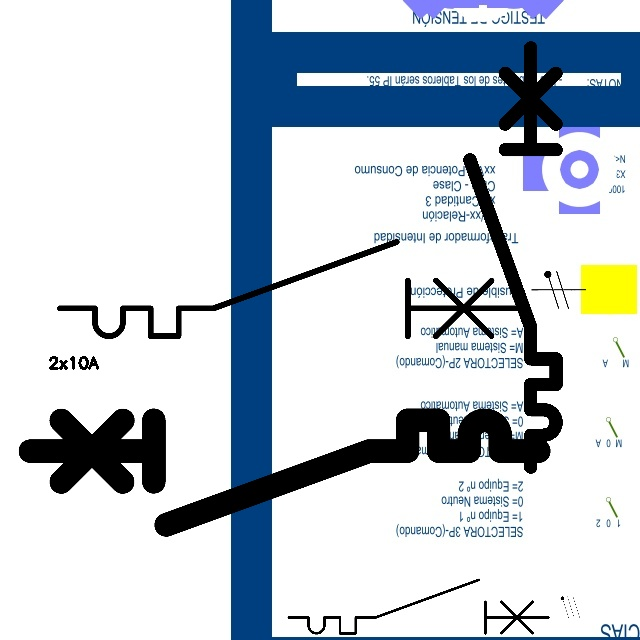interruptor_termomagnetico: (17, 407, 552, 538), (48, 230, 531, 348), (459, 37, 567, 478), (282, 573, 555, 640)
